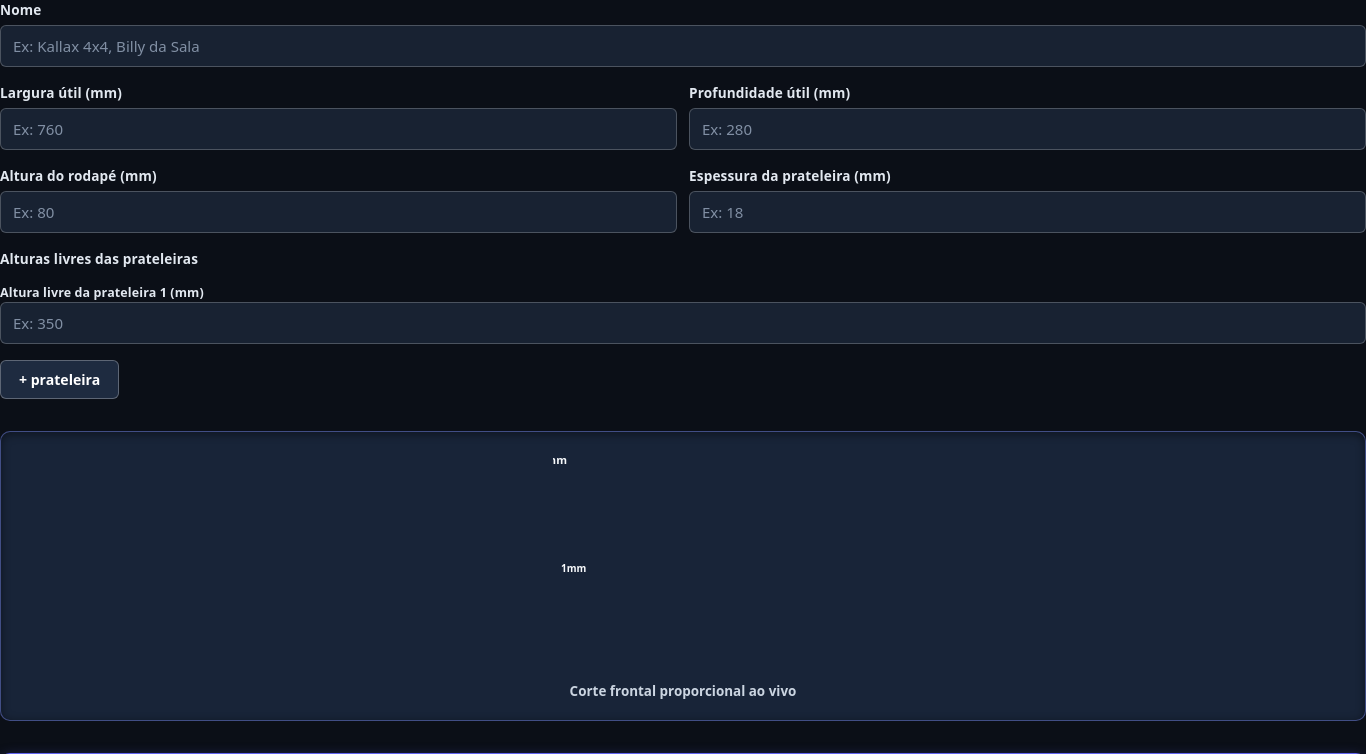
Scenario: FormularioDeEstante › adiciona um campo de prateleira ao clicar em + prateleira
What coordinates should you click on to do the following:
click the button "+ prateleira"
I would click on:
 (60, 380)
Its box is [0, 360, 119, 399].
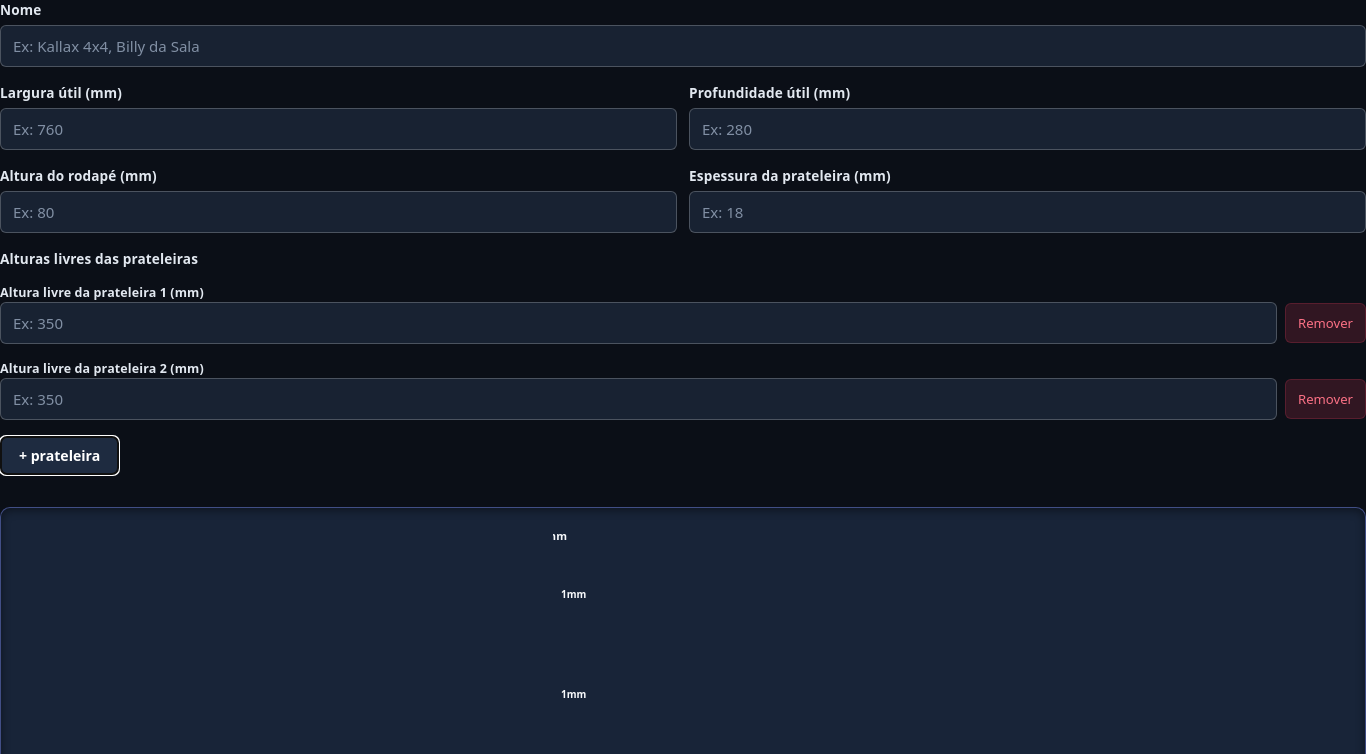
Result: the field labelled "Altura livre da prateleira 2 (mm)" is shown at [0, 378, 1277, 420]
